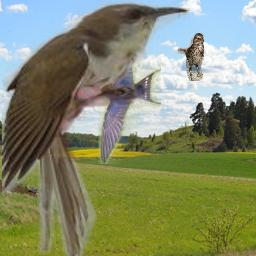Cuckoo: (2, 0, 190, 256)
Sparrow: (177, 33, 204, 81)
Swallow: (98, 12, 161, 164)
